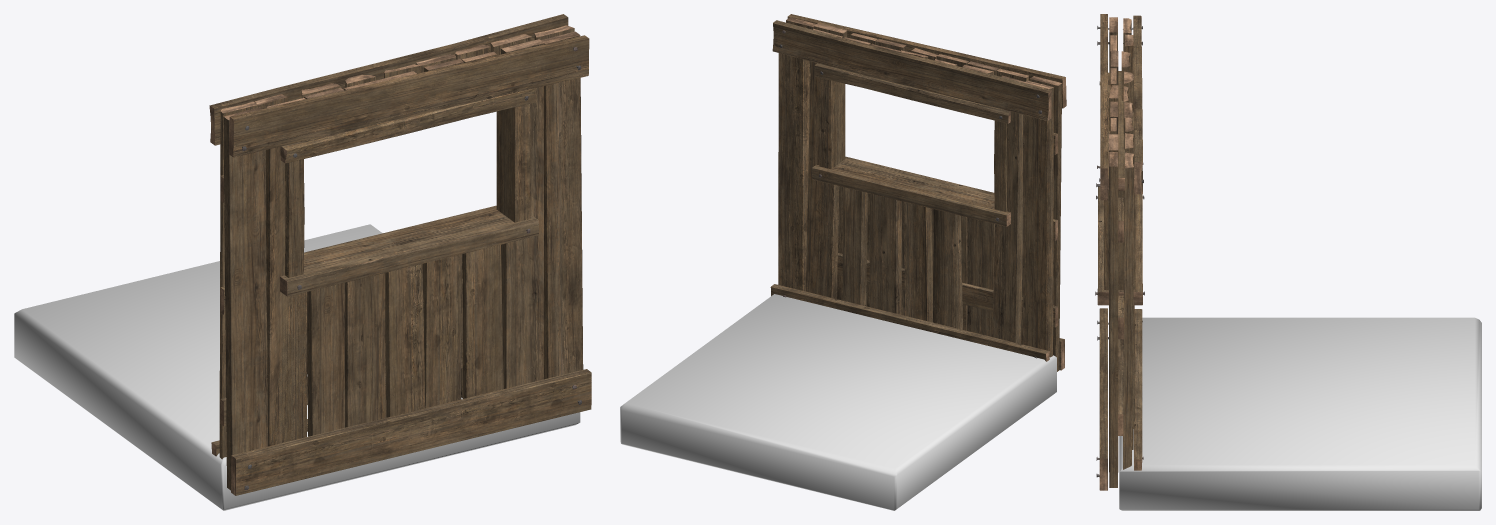
The model's file is SM_Wall_Window_C_P1_.fbx.
The picture shows the model from 3 angles, left to right: view 1: azimuth 30°, elevation 25°; view 2: azimuth 150°, elevation 25°; view 3: azimuth 270°, elevation 25°; orthographic projection. The views are drawn at different scales.
Parts seen in each view (by area): view 1: SM_Wall_Window_C_P1_, SM_Wall_Window_C_P1__ConvexHulls; view 2: SM_Wall_Window_C_P1_, SM_Wall_Window_C_P1__ConvexHulls; view 3: SM_Wall_Window_C_P1__ConvexHulls, SM_Wall_Window_C_P1_.
Boxes of the visible parts, left/top/right/bottom form: SM_Wall_Window_C_P1_: left=209, top=14, right=591, bottom=495; SM_Wall_Window_C_P1__ConvexHulls: left=14, top=224, right=580, bottom=510; SM_Wall_Window_C_P1_: left=770, top=14, right=1066, bottom=371; SM_Wall_Window_C_P1__ConvexHulls: left=620, top=294, right=1056, bottom=510; SM_Wall_Window_C_P1__ConvexHulls: left=1119, top=317, right=1481, bottom=510; SM_Wall_Window_C_P1_: left=1095, top=14, right=1144, bottom=490.
Size of the model in its own units: 3.02 by 3.25 by 3.26.
